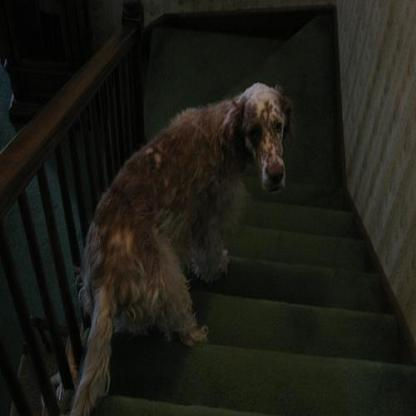English_setter: (71, 79, 290, 410)
